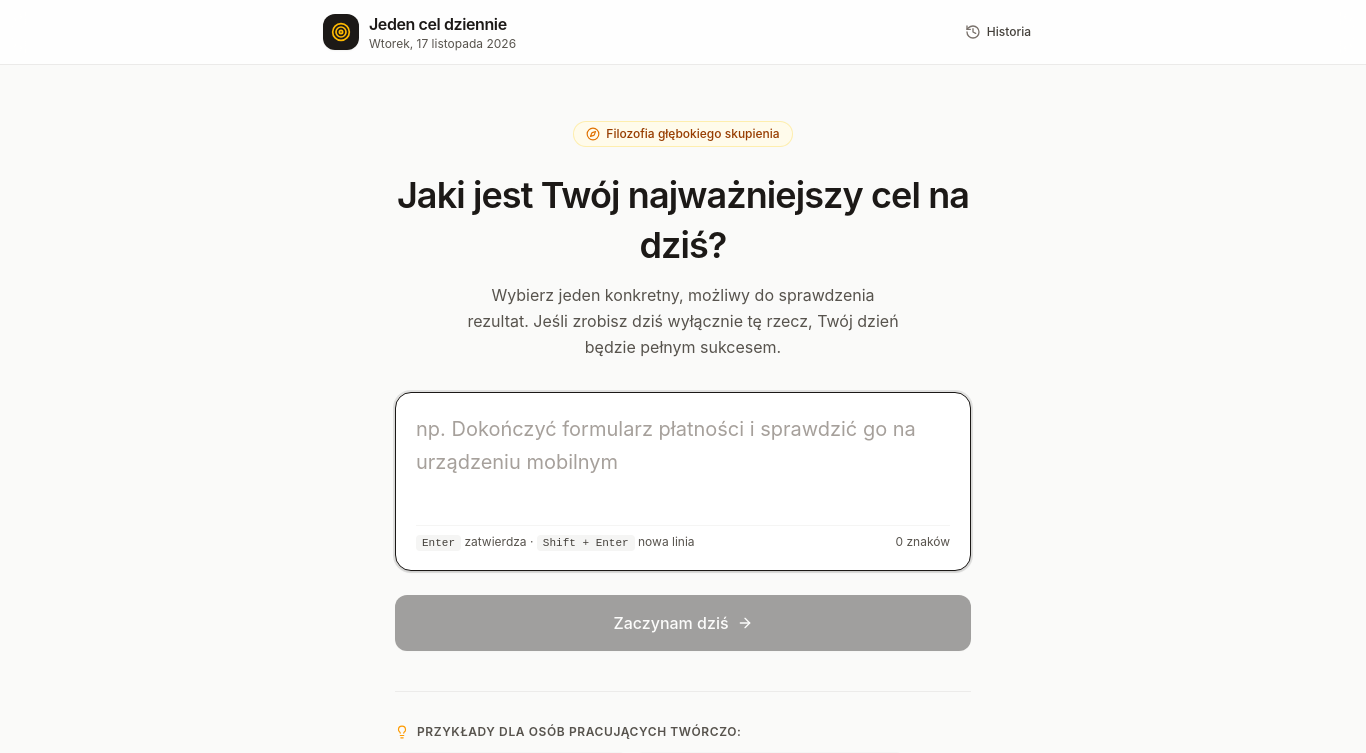
Test: przepływ: cel → postęp → refleksja → historia → CSV › pozwala zmienić treść celu bez utraty postępu
Type "Pierwsza wersja" into the text box named "Najważniejszy cel na dziś" at (683, 462), box [416, 413, 950, 510]
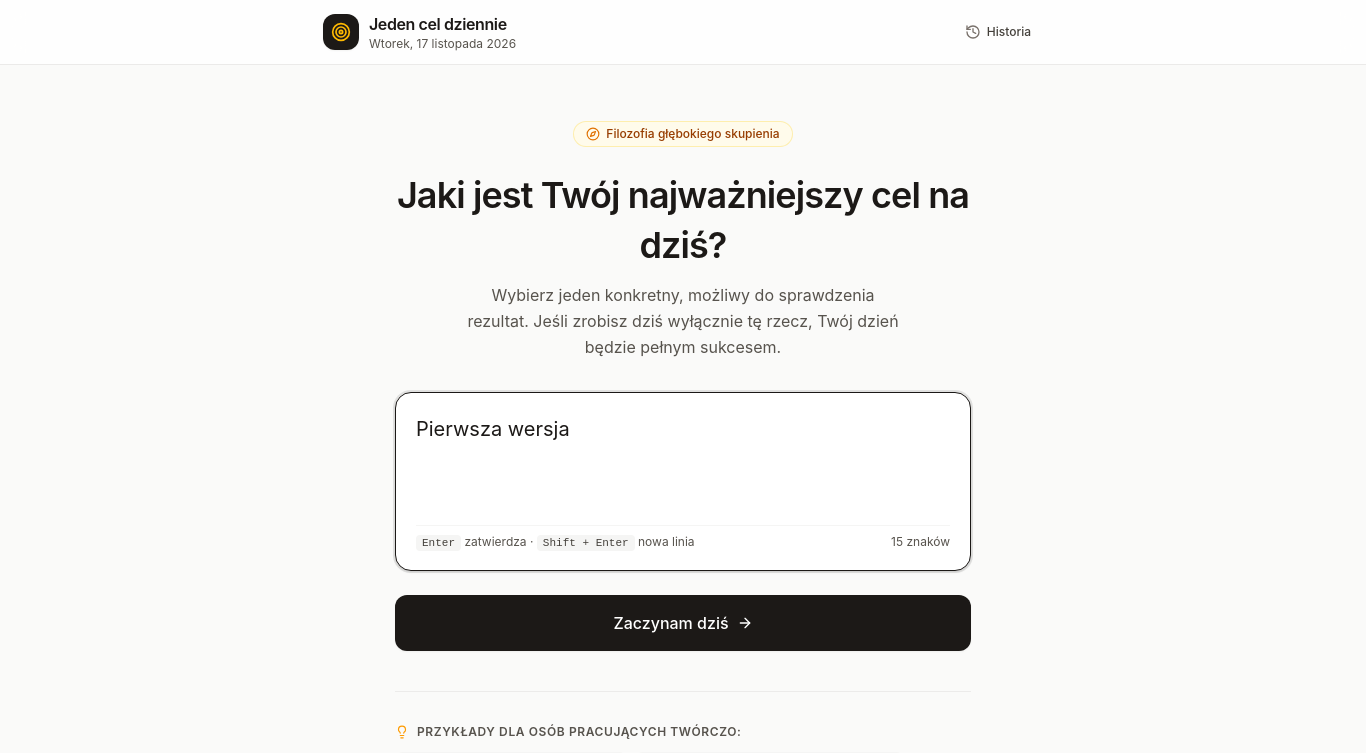
Click the button "Zaczynam dziś" at (683, 623), box [395, 595, 971, 651]
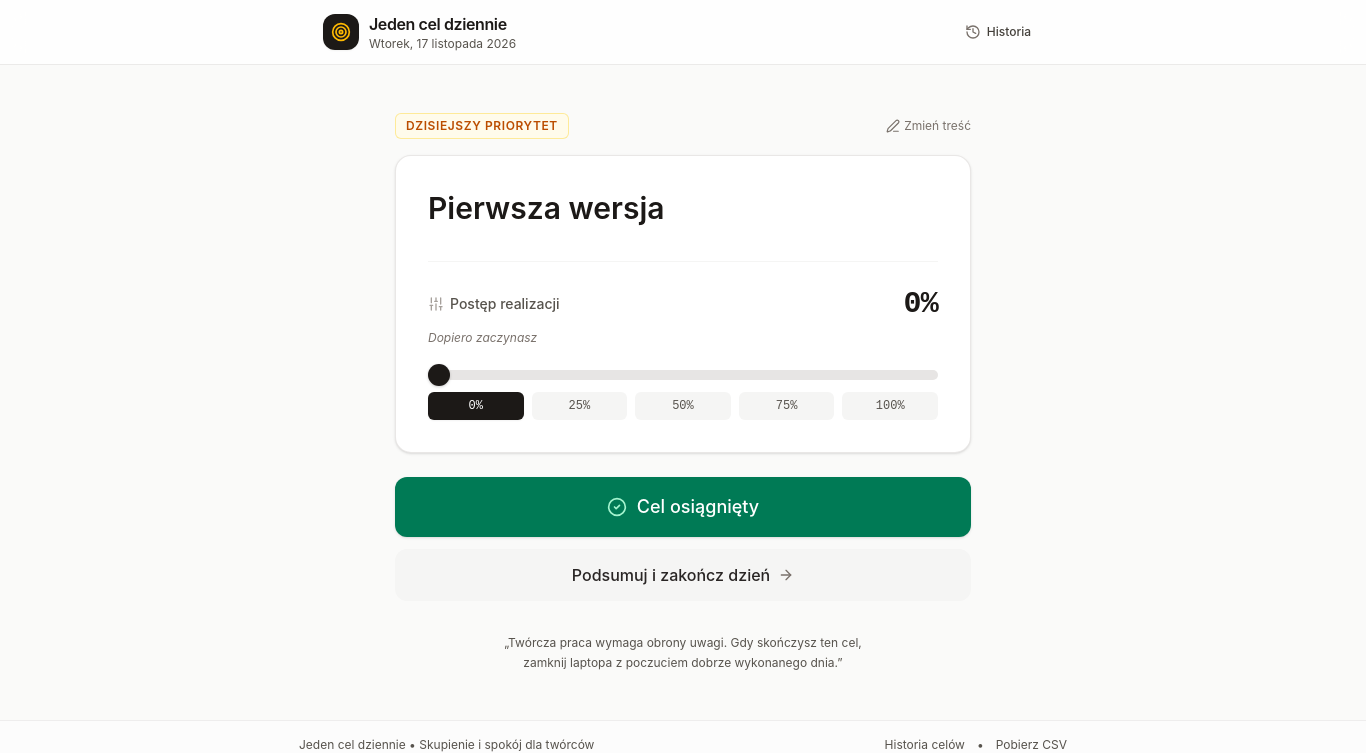
Click the button "75%" at (787, 406), box [739, 392, 834, 420]
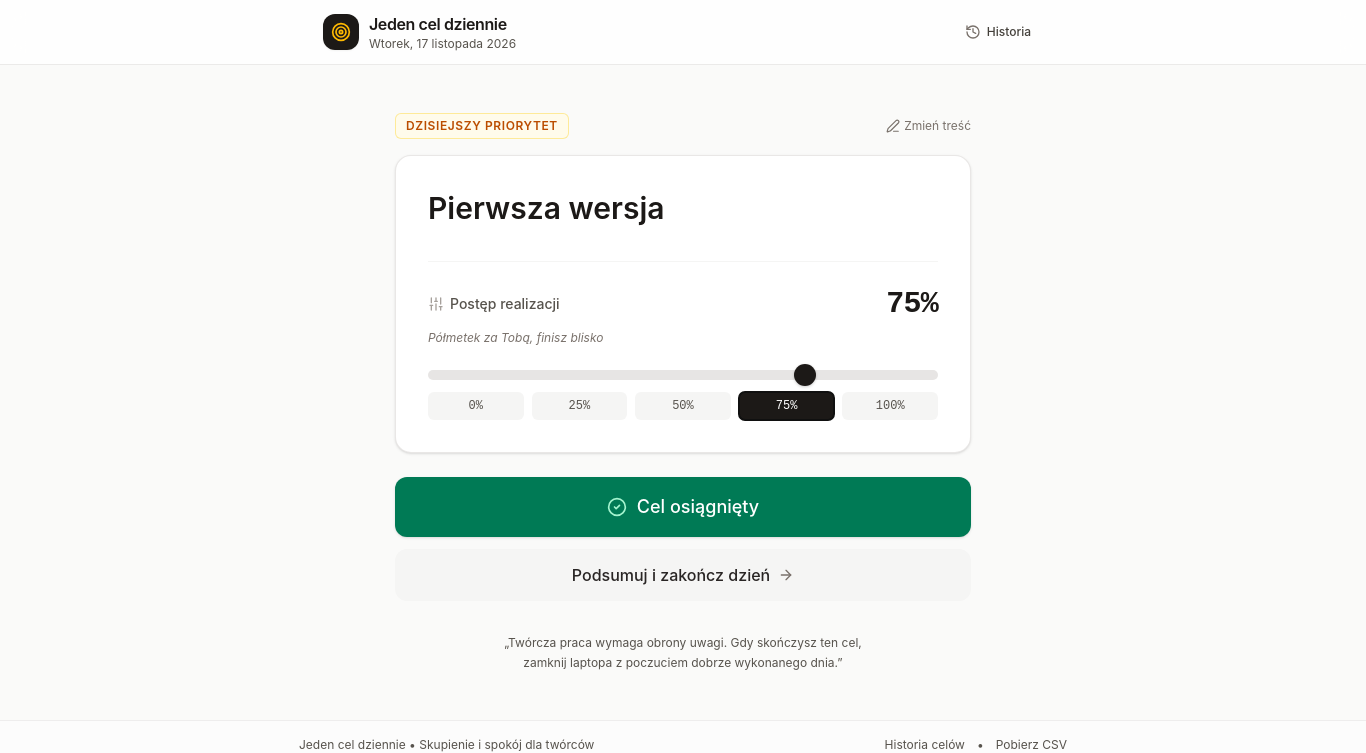
Click the button "Zmień treść" at (929, 126), box [886, 118, 971, 134]
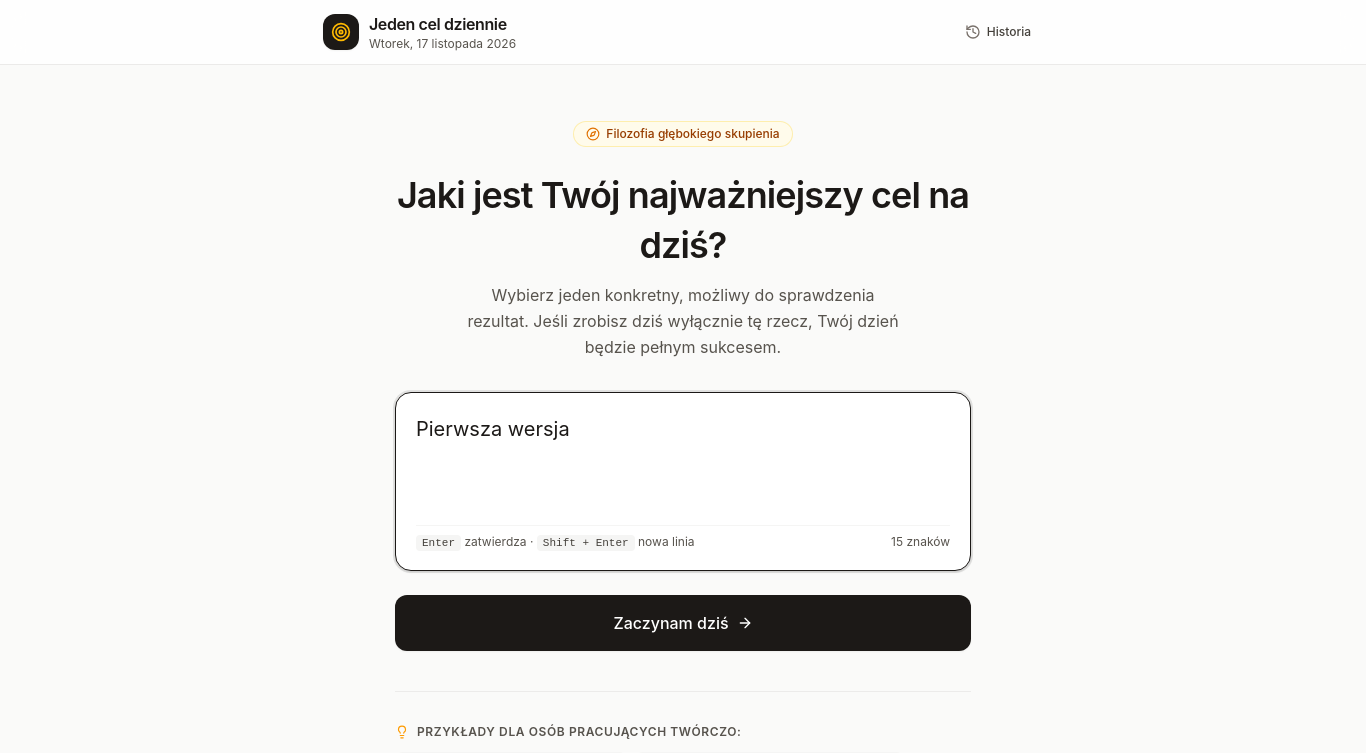
Replace the text in the text box named "Najważniejszy cel na dziś" with "Druga wersja" at (683, 462), box [416, 413, 950, 510]
Then press Enter
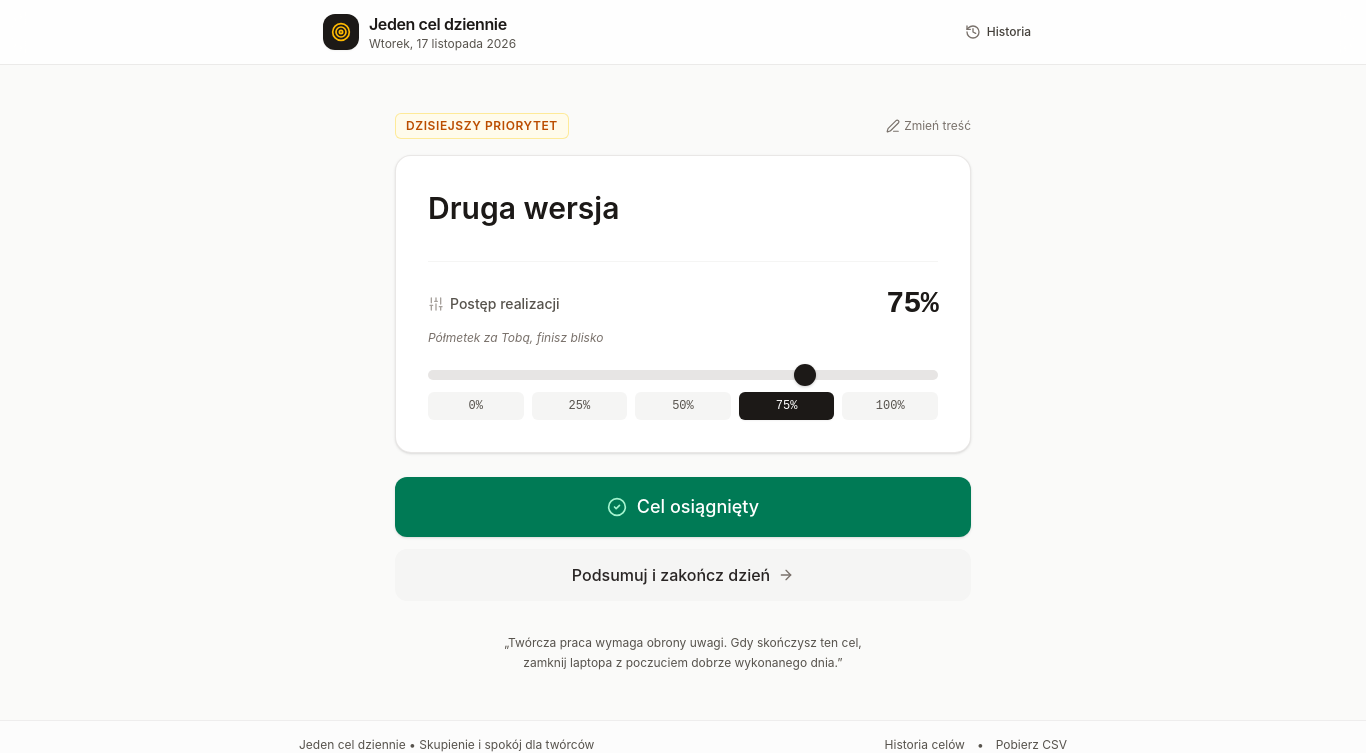
Check: the heading "Druga wersja" is shown, box [428, 190, 619, 226]
